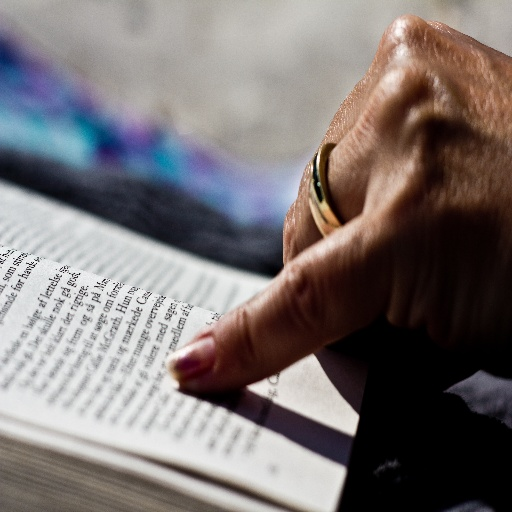hand: (146, 67, 485, 443)
